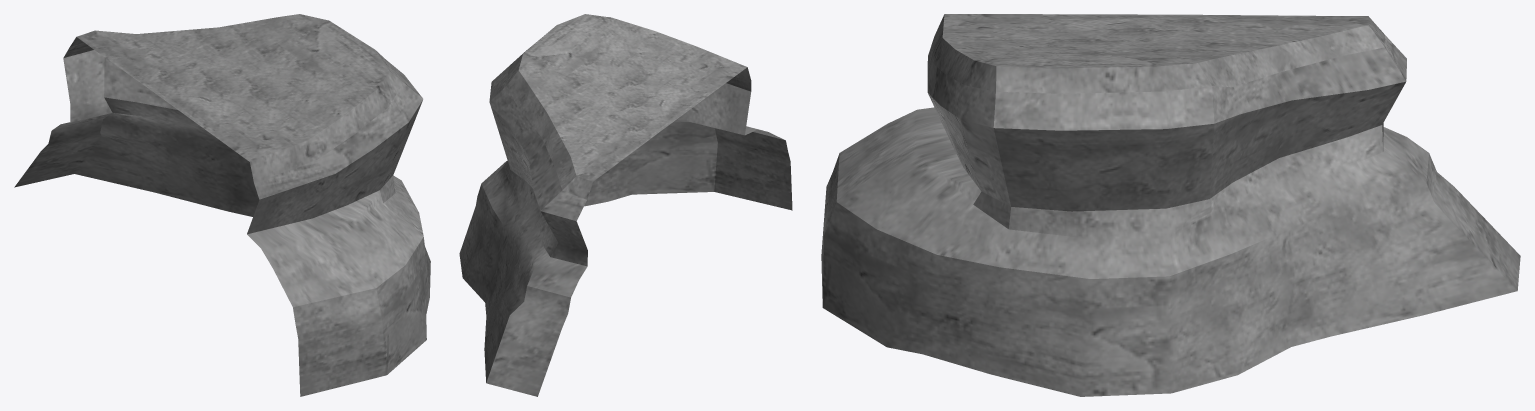
The model's file is lvl1_sea_rock_3.fbx.
3 views of the same model, side by side, from view 1: azimuth 30°, elevation 25°; view 2: azimuth 150°, elevation 25°; view 3: azimuth 270°, elevation 25° (orthographic). The views are drawn at different scales.
Visible parts, largest first — view 1: lvl1_sea_rock_3; view 2: lvl1_sea_rock_3; view 3: lvl1_sea_rock_3.
Part boxes in pixels (box(x1,y1,x2,y2)): lvl1_sea_rock_3: box(14, 14, 430, 396); lvl1_sea_rock_3: box(459, 14, 792, 396); lvl1_sea_rock_3: box(821, 14, 1520, 396).
Size of the model in its own units: 4605 by 4392 by 9643.
